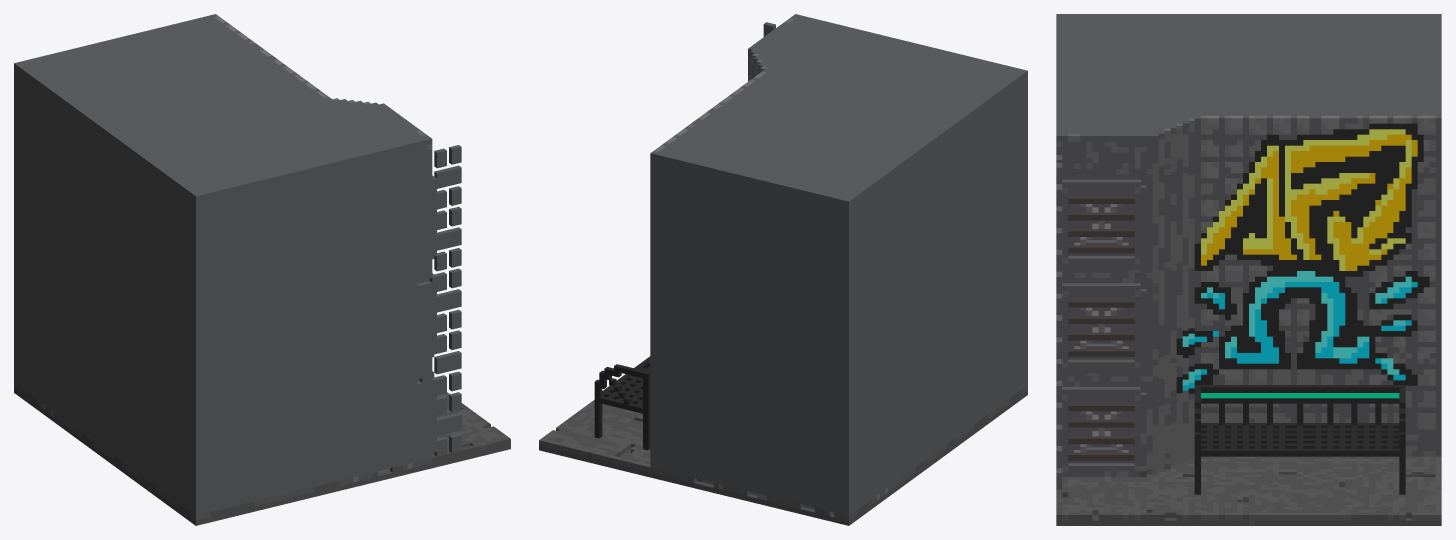
File: MapV3-57.obj
3 views of the same model, side by side, from view 1: azimuth 30°, elevation 25°; view 2: azimuth 150°, elevation 25°; view 3: azimuth 270°, elevation 25° (orthographic). The views are drawn at different scales.
Bounding box in the file's own units: 6.4 × 6.4 × 6.4.
Materials: 1 (1 with a texture image).
